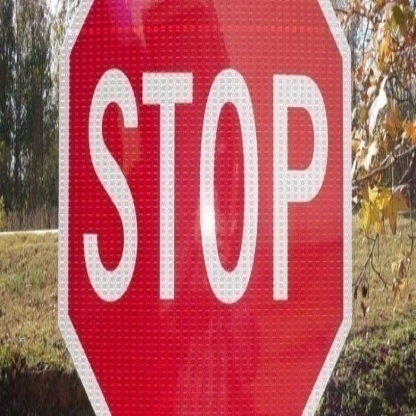stop: (57, 1, 352, 416)
